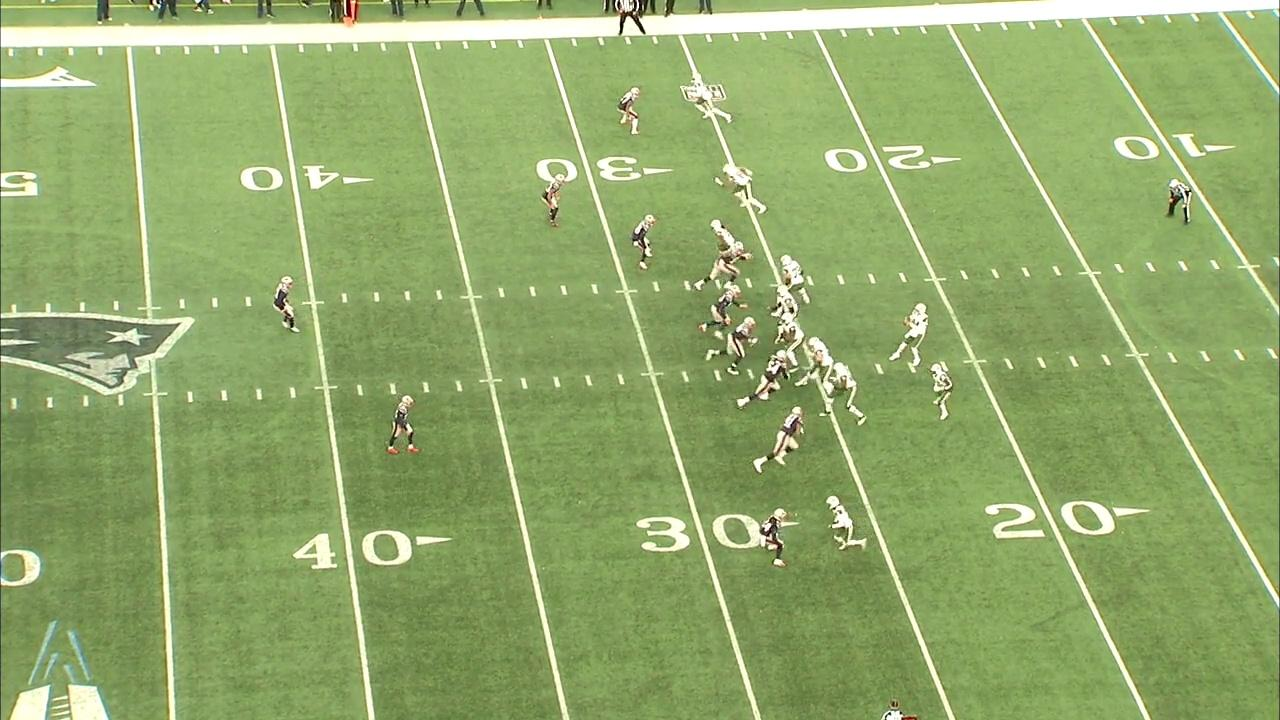player: (383, 382, 433, 458), (752, 407, 803, 475), (536, 163, 577, 240), (820, 365, 870, 428), (887, 298, 929, 370), (740, 349, 789, 410), (718, 158, 768, 217), (705, 317, 754, 377), (694, 241, 749, 293), (826, 492, 868, 559), (686, 68, 732, 126), (269, 268, 305, 337), (699, 284, 742, 338), (758, 503, 790, 575), (773, 253, 811, 307), (616, 78, 644, 139), (634, 206, 660, 269), (808, 335, 832, 396), (775, 317, 805, 365), (932, 359, 952, 422), (766, 286, 800, 321), (707, 220, 733, 249)
ref: (1148, 173, 1205, 233), (605, 0, 658, 44)
